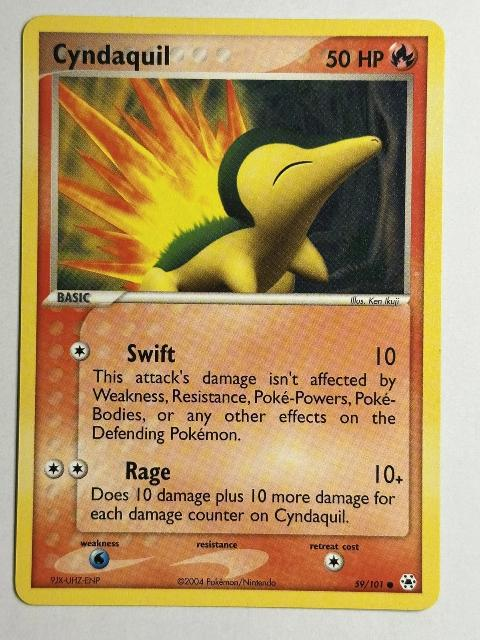Card: (10, 12, 448, 616)
Name: (48, 37, 174, 74)
